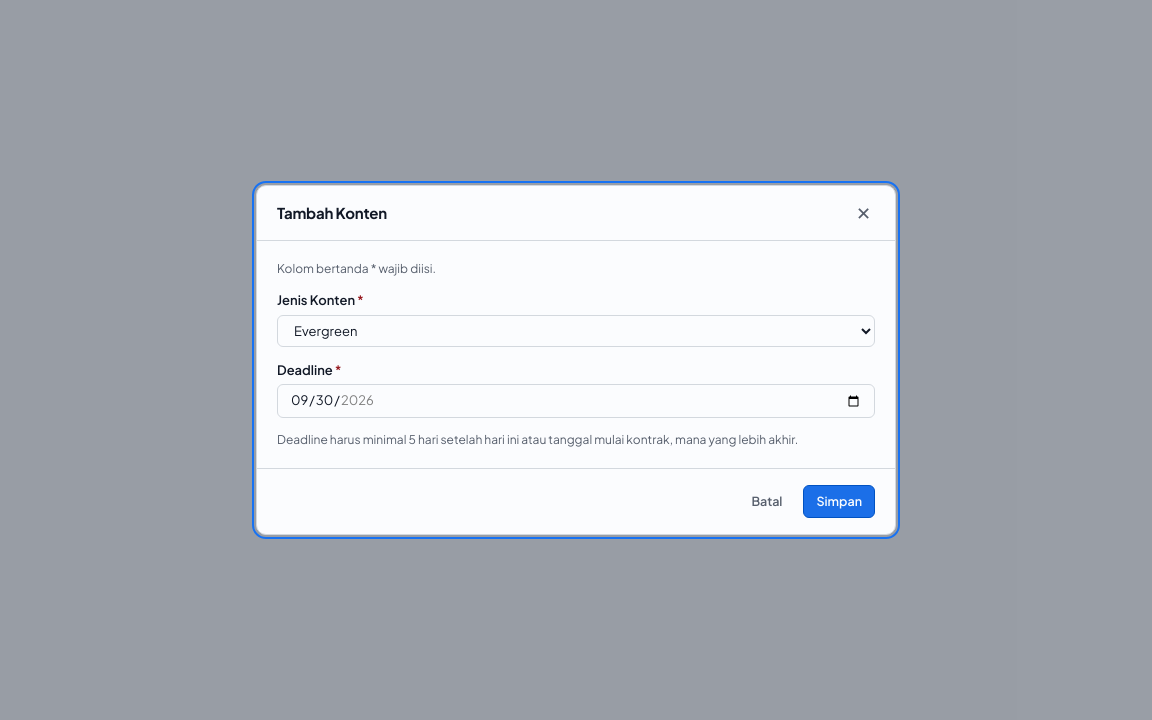
Test case: AddContentModal › requires a deadline
This screenshot has width=1152, height=720.
Clear the date field labelled "Deadline" at (576, 401), box [277, 384, 875, 418]
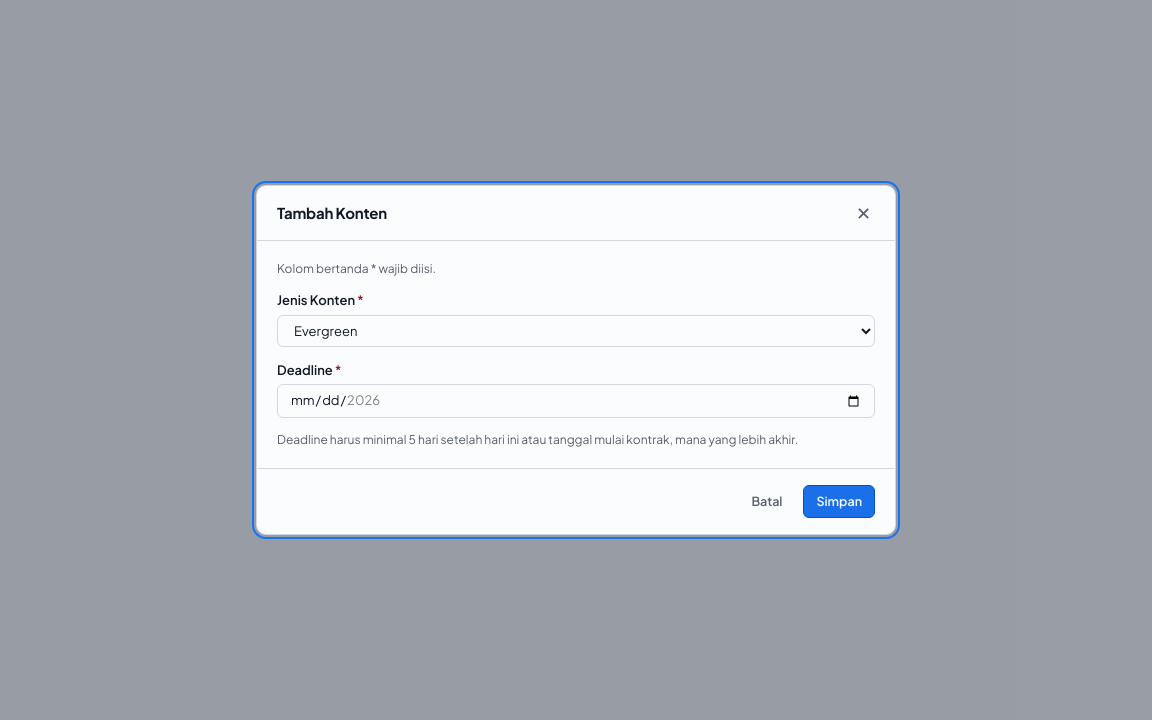
Click the button "Simpan".
click(839, 501)  # box [803, 485, 875, 518]
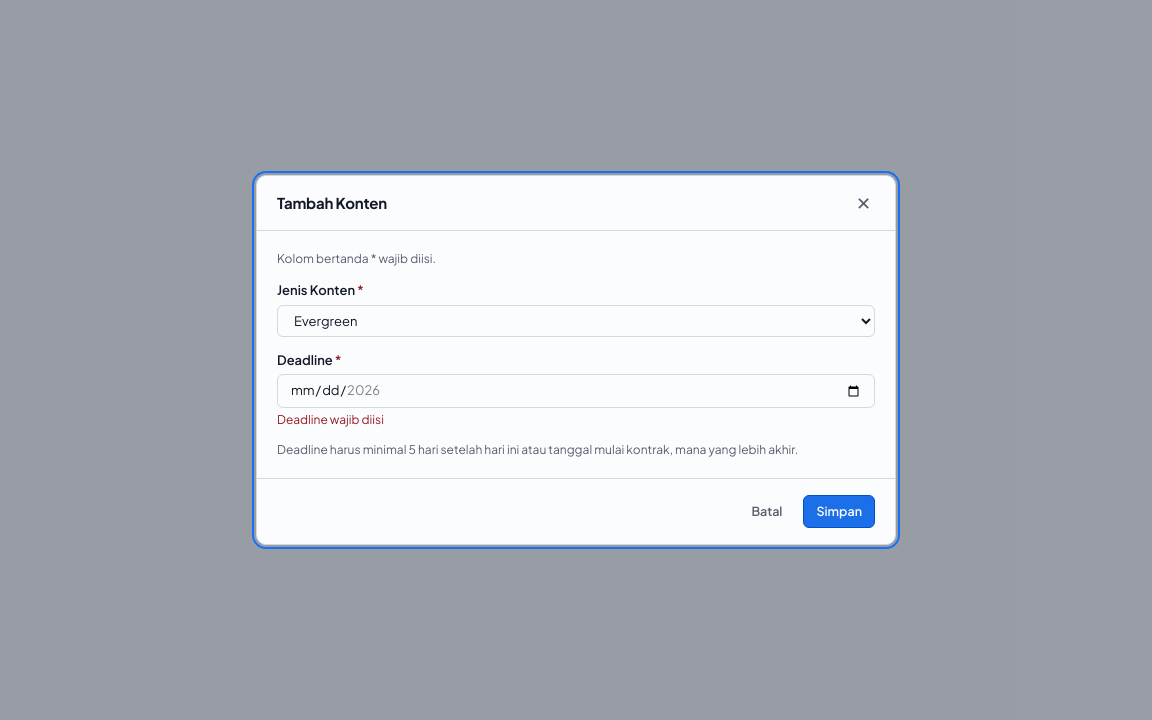
Expected: the text "Deadline wajib diisi" is shown, [277, 412, 384, 427]
